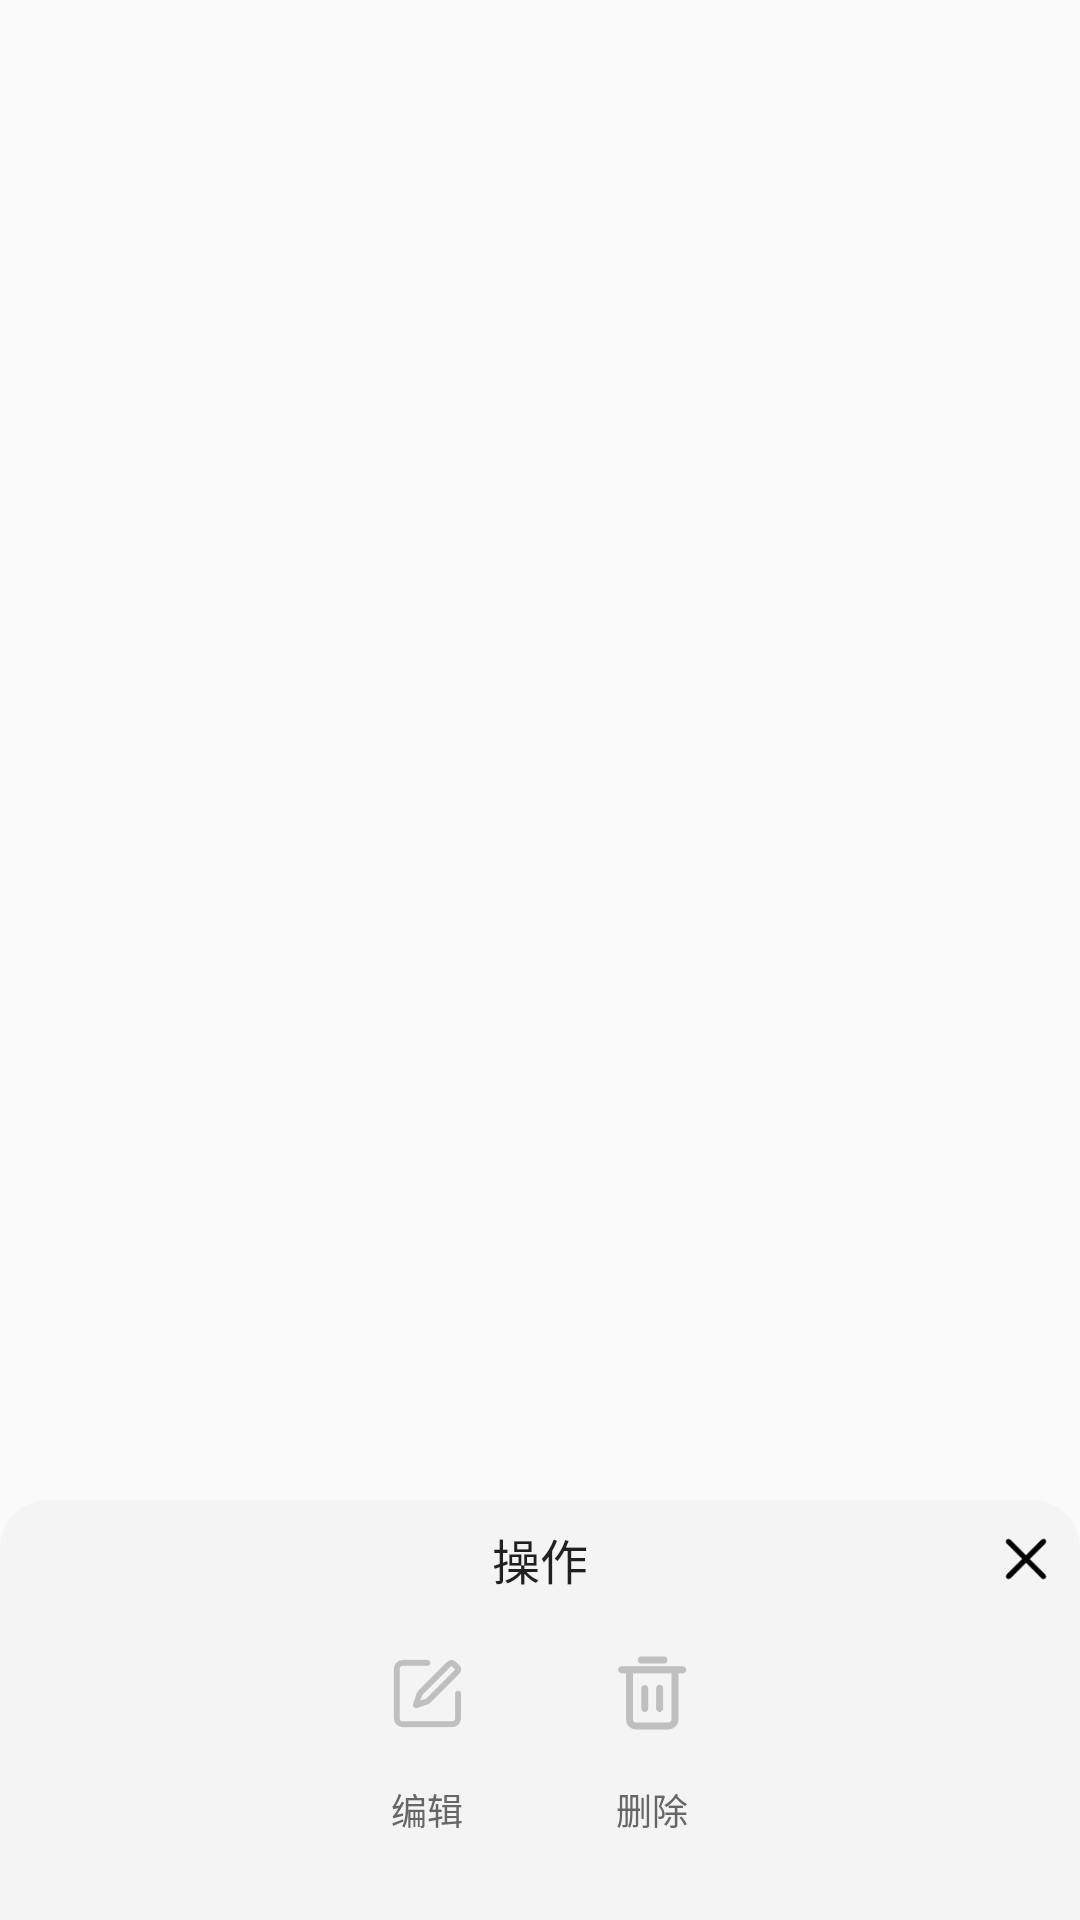

Locate icon controls on the screen. Image size 1080px x 1920px, boxes as (left=x1, top=y1, right=x2, bottom=y2).
cancel: (left=1005, top=1538, right=1047, bottom=1580)
delete: (left=618, top=1656, right=686, bottom=1730)
edit: (left=394, top=1660, right=461, bottom=1727)
